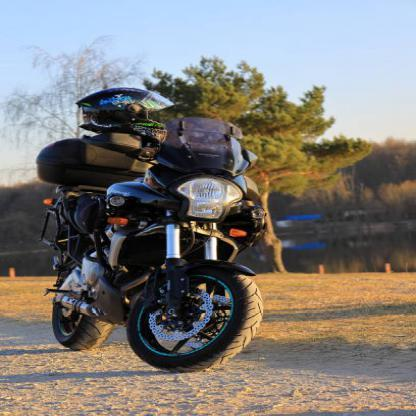Motorcycle: (29, 97, 272, 375)
